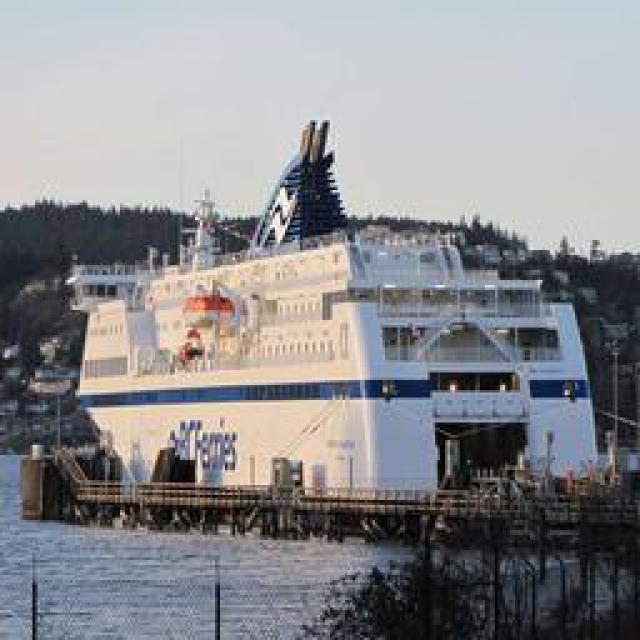Ship: (46, 126, 616, 524)
